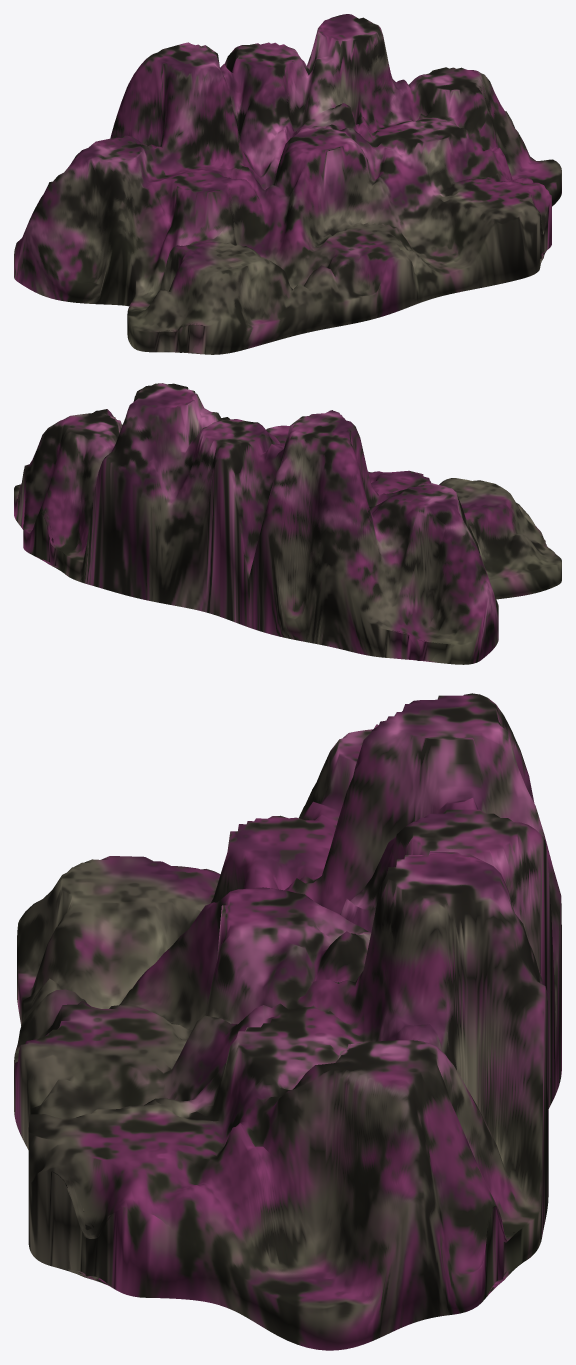
File: live-rock-island-right.glb
3 views of the same model, one above another, from view 1: azimuth 30°, elevation 25°; view 2: azimuth 150°, elevation 25°; view 3: azimuth 270°, elevation 25° (orthographic). The views are drawn at different scales.
Visible parts, largest first — view 1: Live_Rock_Island_Right; view 2: Live_Rock_Island_Right; view 3: Live_Rock_Island_Right.
Part boxes in pixels (bbox=[...]): Live_Rock_Island_Right: bbox=[14, 14, 561, 354]; Live_Rock_Island_Right: bbox=[14, 383, 561, 664]; Live_Rock_Island_Right: bbox=[14, 693, 561, 1350].
Size of the model in its own units: 0.9664 by 0.348 by 0.5115.
1 material, 1 textured.
